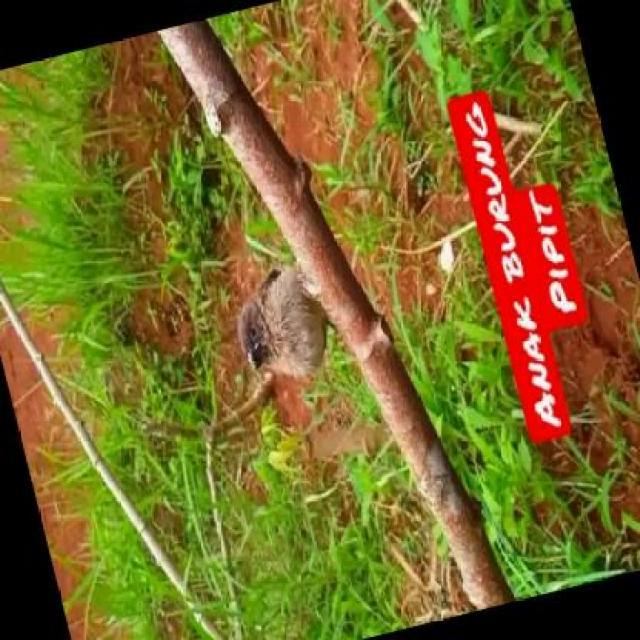Bird: (221, 252, 350, 438)
